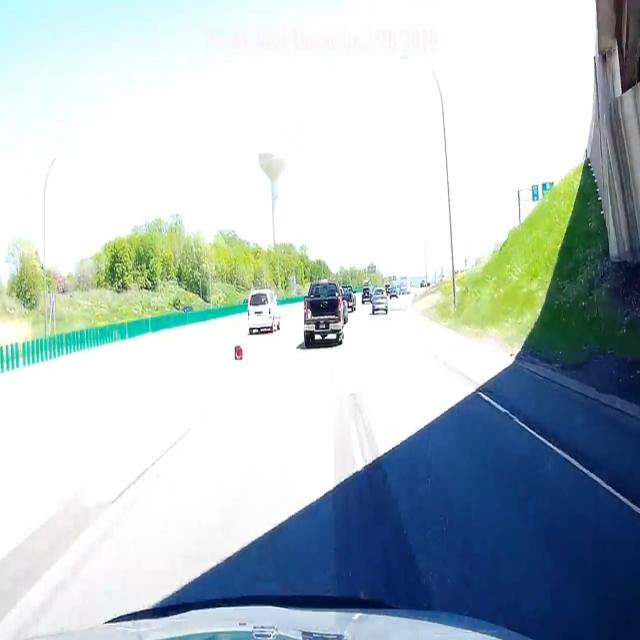cone: (233, 347, 242, 361)
